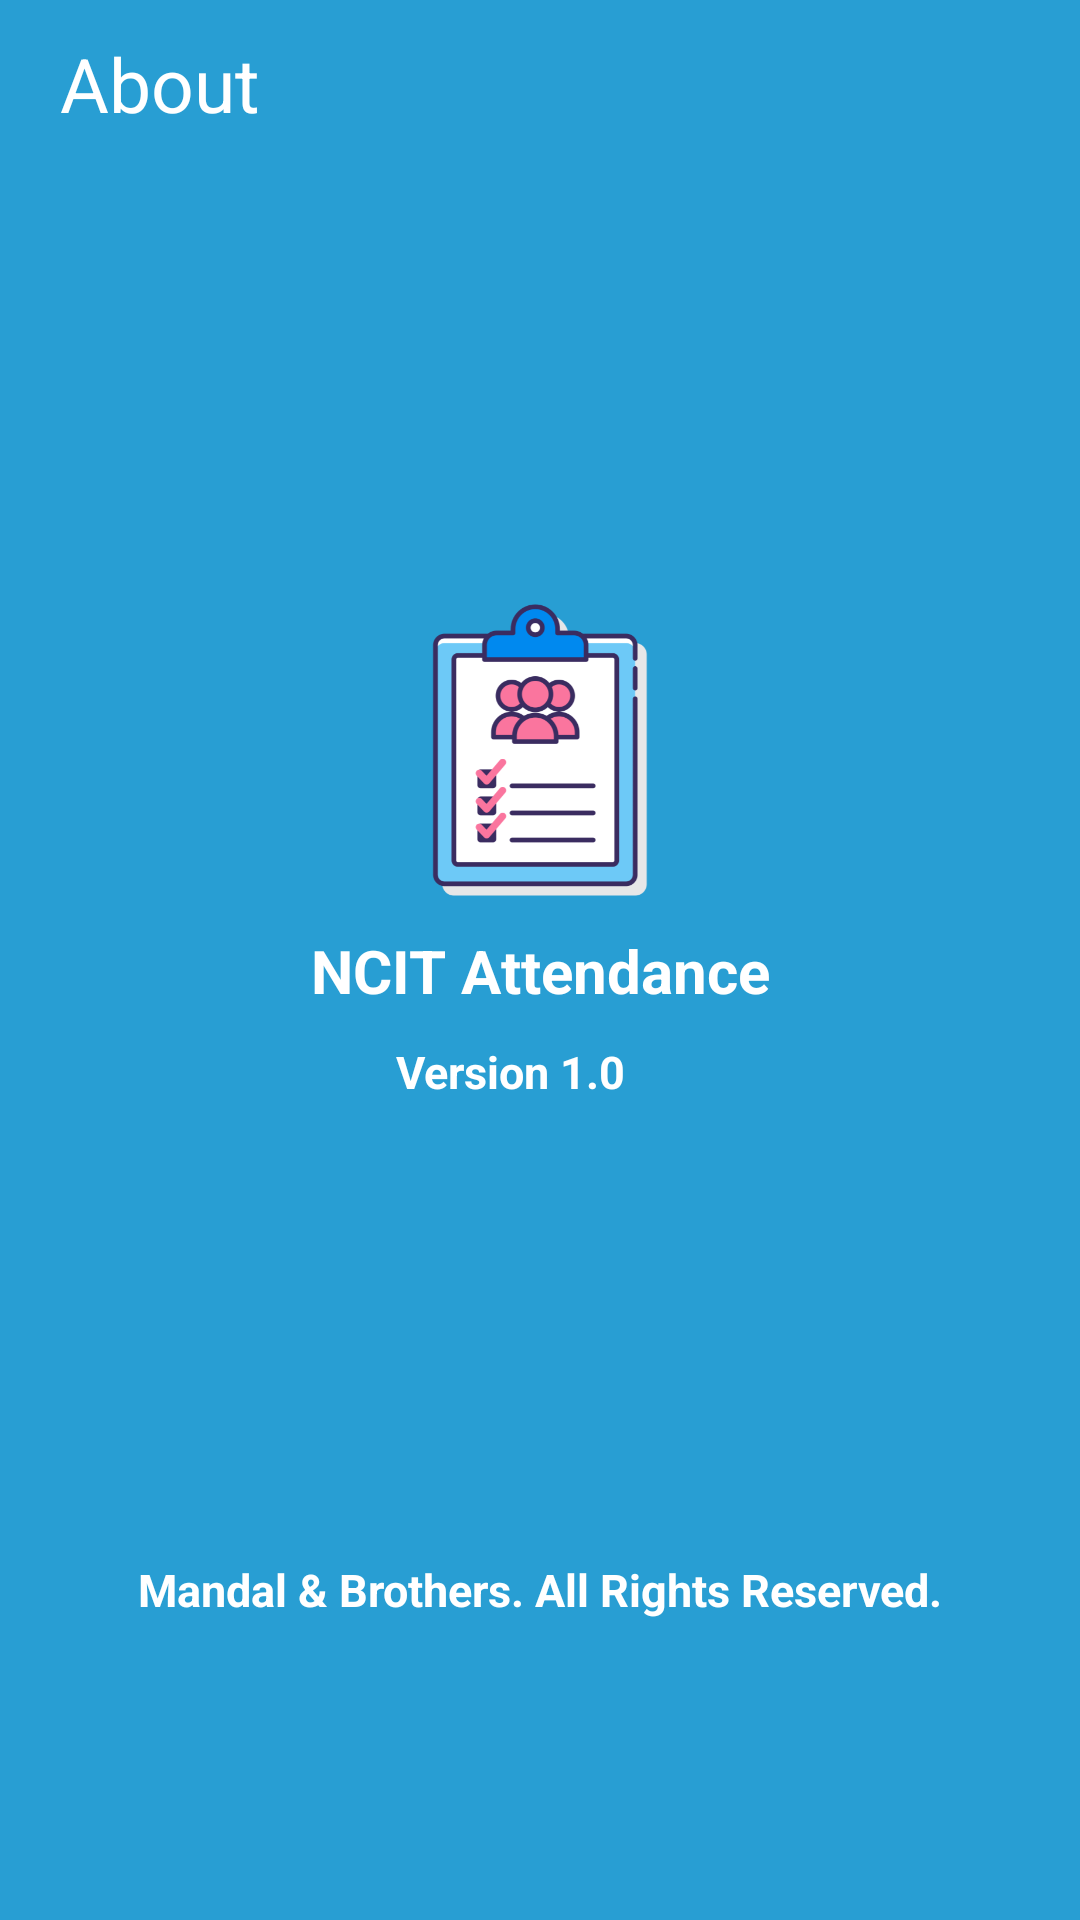

Where icons sit on this 1080x1920 app screen, as (x1, y1, x2, y2):
attendant list: (433, 604, 647, 896)
